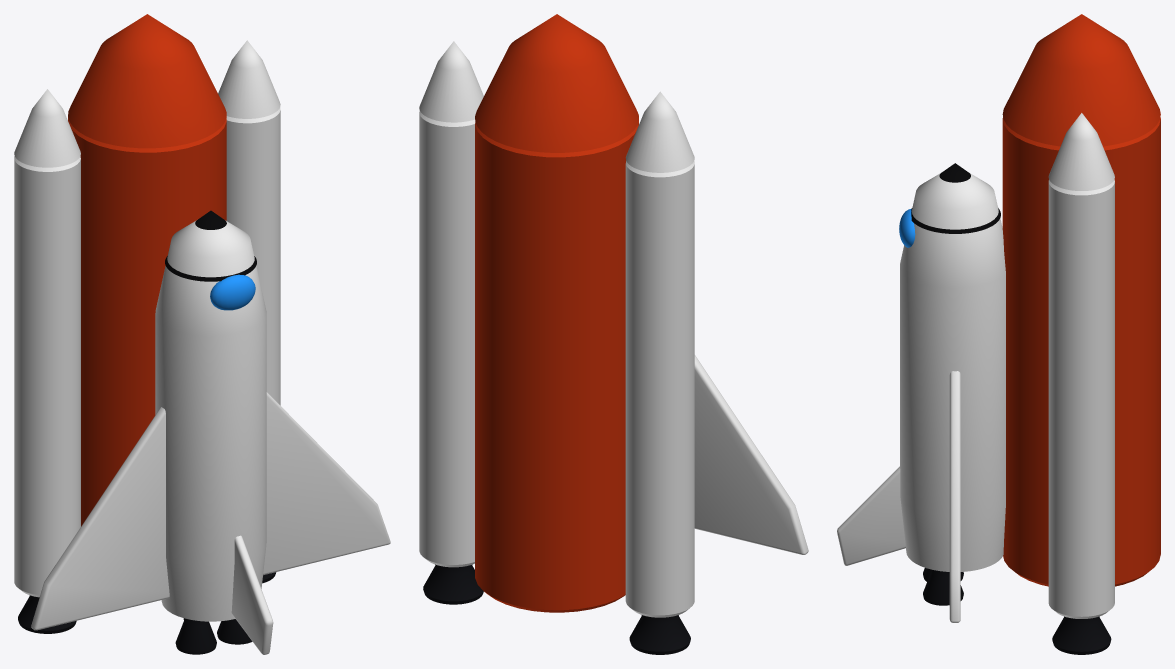
Rendered from Rocket_13_Shuttle.obj.
3 views of the same model, side by side, from view 1: azimuth 30°, elevation 25°; view 2: azimuth 150°, elevation 25°; view 3: azimuth 270°, elevation 25° (orthographic). The views are drawn at different scales.
Visible parts, largest first — view 1: R13_Orbiter, R13_Tank, R13_SRB_2, R13_Wing_2, R13_TankNose, R13_Wing, R13_SRB, R13_SRBNose_2, R13_SRBNose, R13_Tail, R13_CockpitGlass, R13_Nozzle_3 (+3 smaller); view 2: R13_Tank, R13_SRB_2, R13_SRB, R13_TankNose, R13_Wing_2, R13_SRBNose_2, R13_SRBNose, R13_Nozzle_2, R13_Nozzle; view 3: R13_Tank, R13_Orbiter, R13_SRB, R13_TankNose, R13_Tail, R13_SRBNose, R13_Wing, R13_Nozzle, R13_OrbiterNose, R13_Nozzle_4, R13_CockpitGlass.
Boxes of the visible parts, <box> form: R13_Orbiter: <box>155,220,266,621</box>; R13_Tank: <box>68,117,226,526</box>; R13_SRB_2: <box>14,156,80,597</box>; R13_Wing_2: <box>31,407,169,630</box>; R13_TankNose: <box>68,14,226,148</box>; R13_Wing: <box>263,392,390,575</box>; R13_SRB: <box>226,107,280,405</box>; R13_SRBNose_2: <box>14,89,80,167</box>; R13_SRBNose: <box>218,40,280,118</box>; R13_Tail: <box>231,535,273,654</box>; R13_CockpitGlass: <box>210,274,255,310</box>; R13_Nozzle_3: <box>175,618,216,654</box>; R13_Tank: <box>475,121,638,612</box>; R13_SRB_2: <box>625,161,694,617</box>; R13_SRB: <box>419,110,475,567</box>; R13_TankNose: <box>475,14,638,152</box>; R13_Wing_2: <box>694,355,808,554</box>; R13_SRBNose_2: <box>625,91,694,172</box>; R13_SRBNose: <box>419,41,483,122</box>; R13_Nozzle_2: <box>629,615,690,654</box>; R13_Nozzle: <box>423,564,483,604</box>; R13_Tank: <box>1002,117,1160,586</box>; R13_Orbiter: <box>900,173,1005,571</box>; R13_SRB: <box>1048,179,1114,618</box>; R13_TankNose: <box>1002,14,1160,146</box>; R13_Tail: <box>837,466,905,565</box>; R13_SRBNose: <box>1048,113,1114,190</box>; R13_Wing: <box>949,371,960,622</box>; R13_Nozzle: <box>1052,616,1111,654</box>; R13_OrbiterNose: <box>911,163,1000,233</box>; R13_Nozzle_4: <box>923,569,963,605</box>; R13_CockpitGlass: <box>899,208,915,247</box>.
Bounding box in the file's own units: 5.18 × 8.1 × 4.09.
